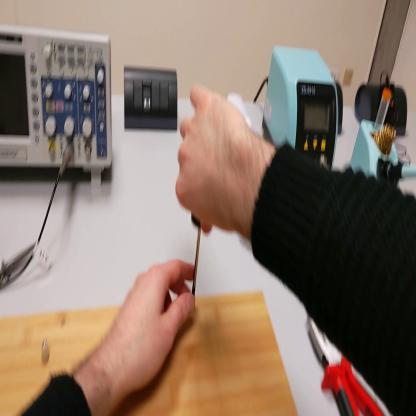hand: (175, 86, 260, 241), (109, 261, 198, 398)
oscilloscope: (2, 25, 114, 189)
oscilloscope probe tip: (2, 238, 39, 282)
pliers: (308, 316, 385, 415)
screwdriver-: (191, 207, 202, 291)
socket: (355, 82, 408, 140), (338, 85, 346, 136)
welder base: (351, 84, 401, 190)
welder probe tip: (391, 166, 415, 187)
welder station: (264, 46, 341, 173)
working area: (2, 289, 298, 415)
